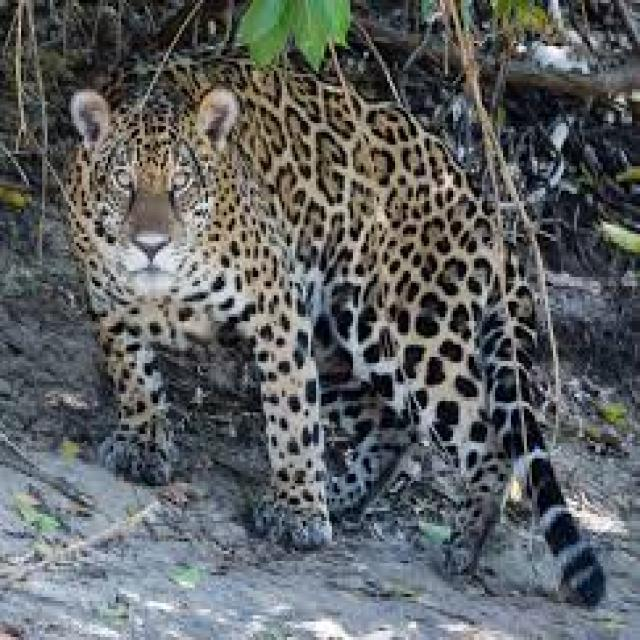Jaguar: (50, 34, 608, 618)
